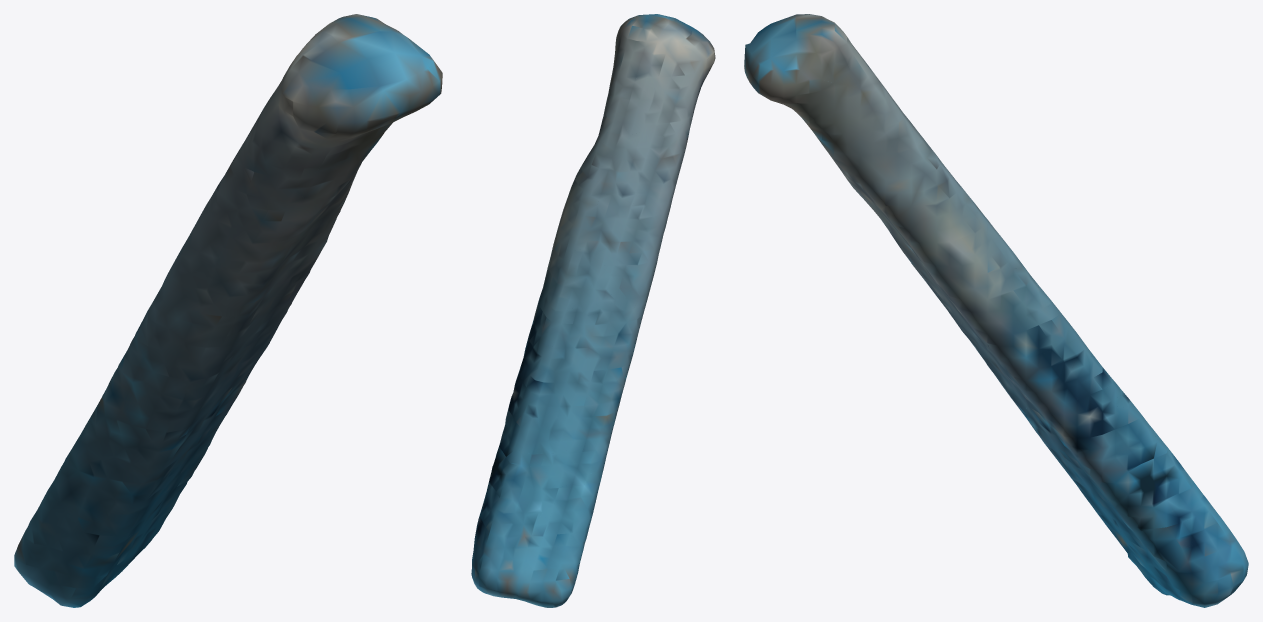
Rendered from bar_new.obj.
3 renders of one model, left to right at view 1: azimuth 30°, elevation 25°; view 2: azimuth 150°, elevation 25°; view 3: azimuth 270°, elevation 25°, orthographic. The views are drawn at different scales.
Size of the model in its own units: 0.12 by 0.4797 by 0.3669.
